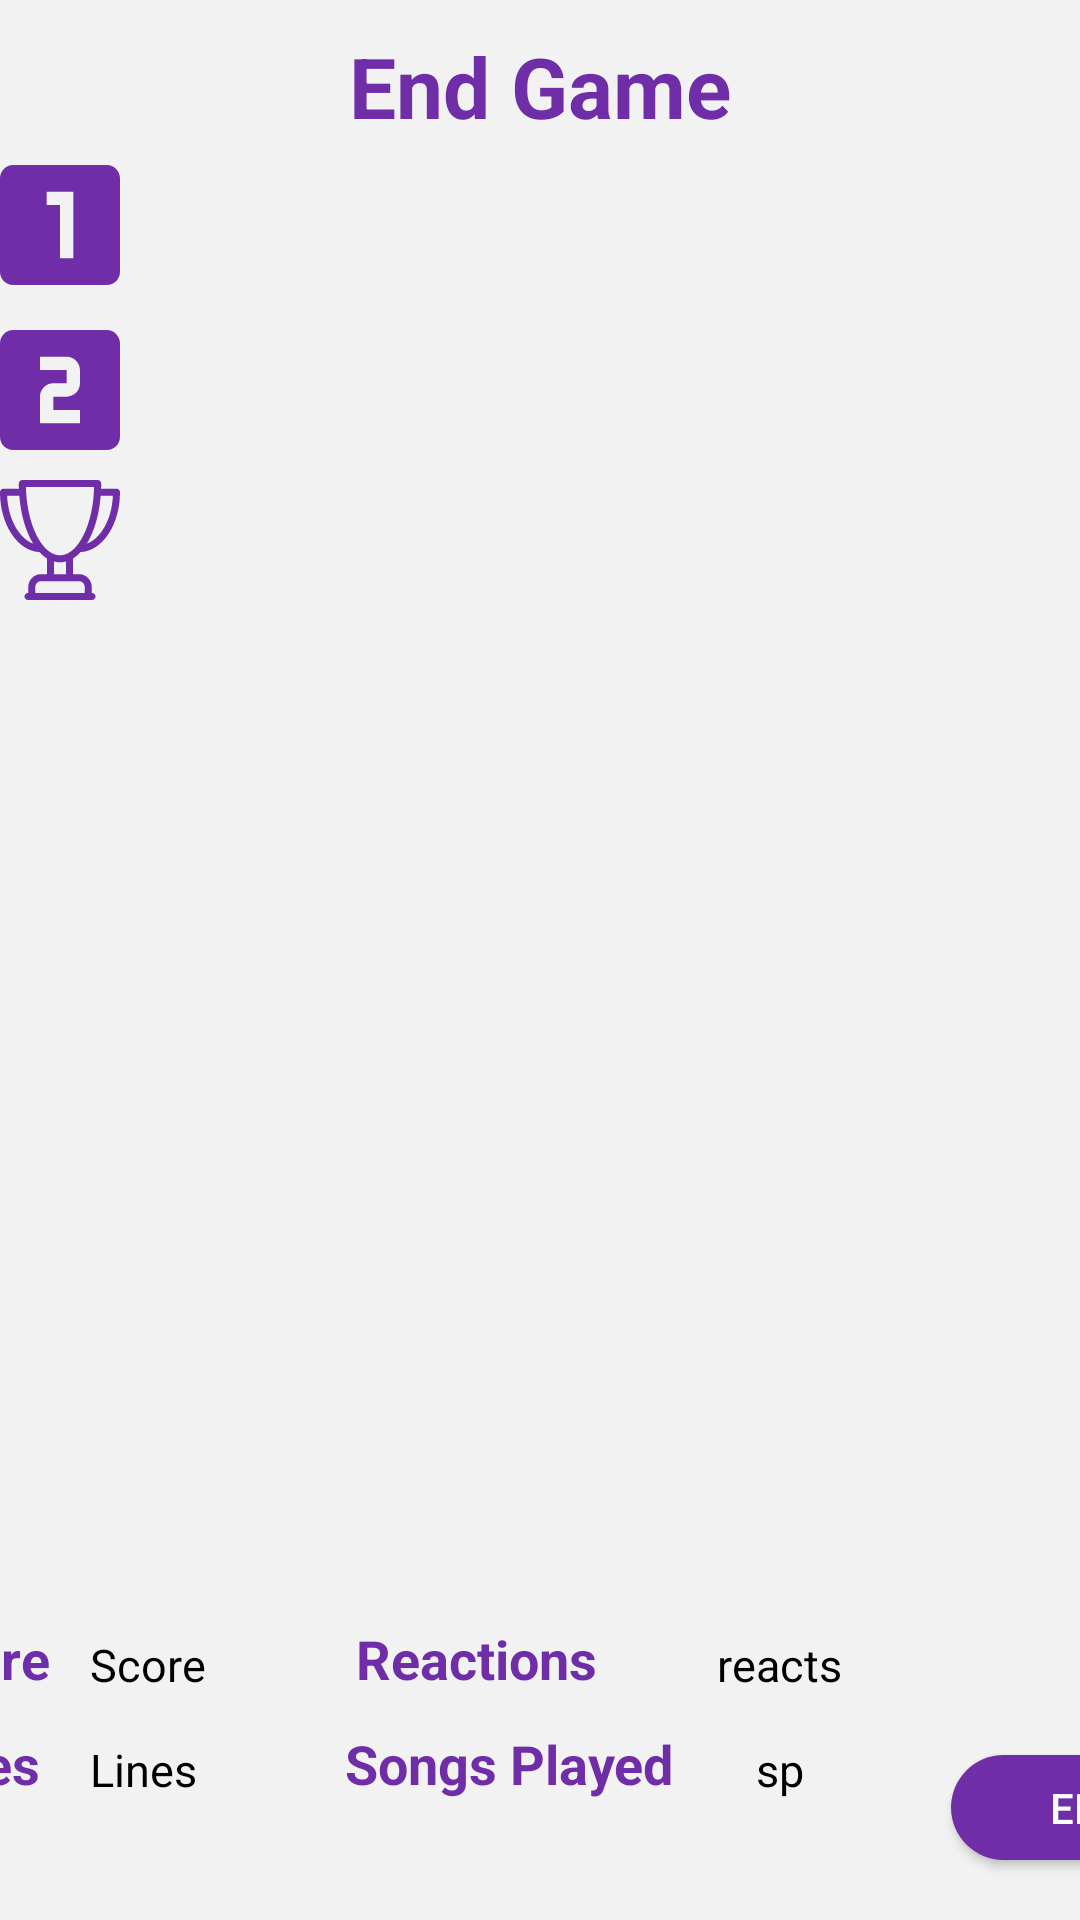

Named icons in this screenshot (1080×1920) and their bounding boxes, (x1, y1, x2, y2):
one line: (0, 165, 120, 285)
trophy: (0, 480, 120, 600)
two line: (0, 330, 120, 450)
